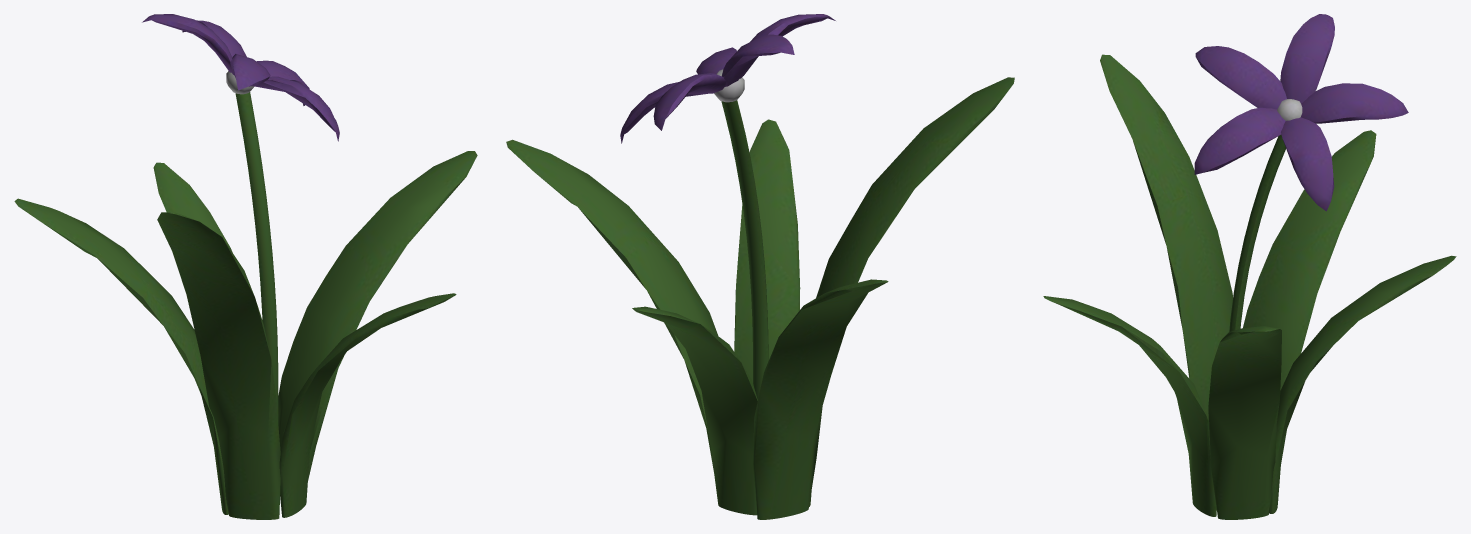
File: grassPoisin.fbx
3 views of the same model, side by side, from view 1: azimuth 30°, elevation 25°; view 2: azimuth 150°, elevation 25°; view 3: azimuth 270°, elevation 25° (orthographic). The views are drawn at different scales.
Visible parts, largest first — view 1: grassPoison_1; view 2: grassPoison_1; view 3: grassPoison_1.
Part boxes in pixels (x1=…): grassPoison_1: x1=14, y1=14, x2=477, y2=519; grassPoison_1: x1=506, y1=14, x2=1014, y2=519; grassPoison_1: x1=1043, y1=14, x2=1456, y2=519.
Size of the model in its own units: 470 by 522 by 425.
Materials: 1 (1 with a texture image).
